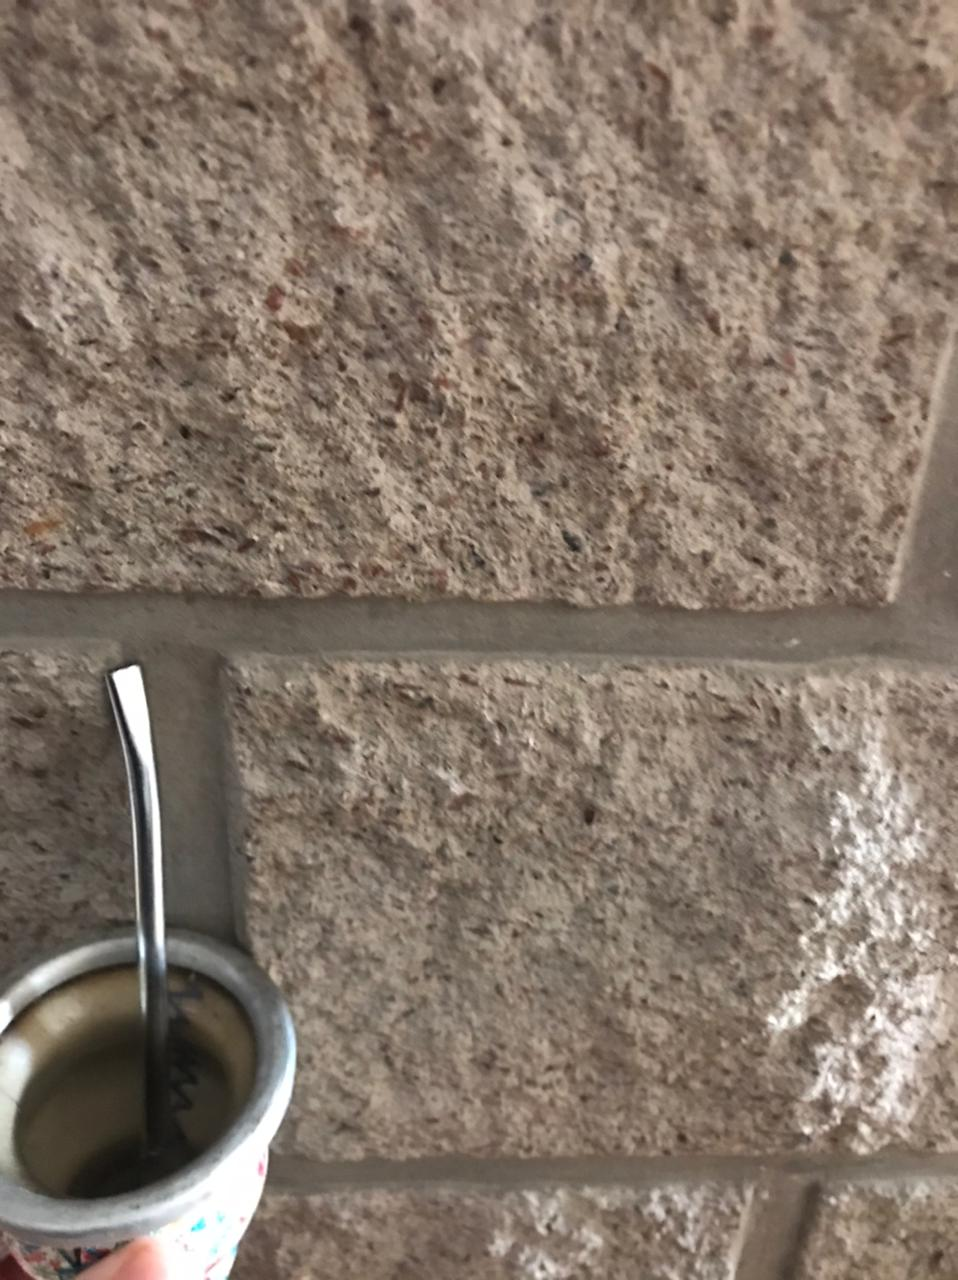mate: (1, 663, 318, 1280)
